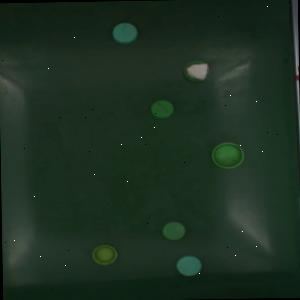others: (211, 142, 244, 169), (176, 254, 202, 276), (112, 22, 138, 44), (183, 61, 209, 81), (92, 245, 118, 264), (150, 100, 174, 118), (162, 221, 186, 239)
